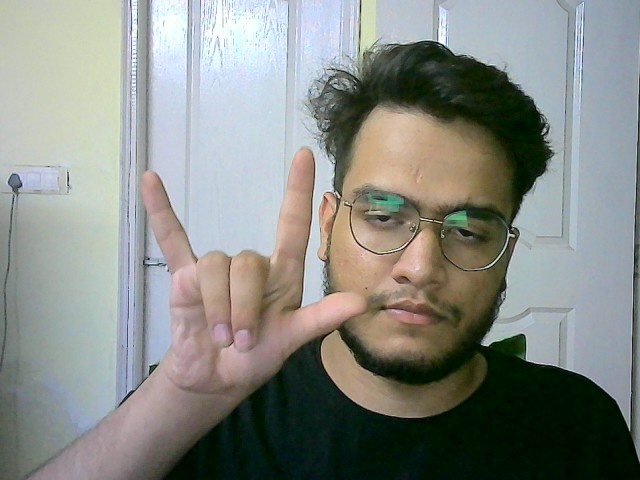I Love You: (134, 146, 368, 398)
